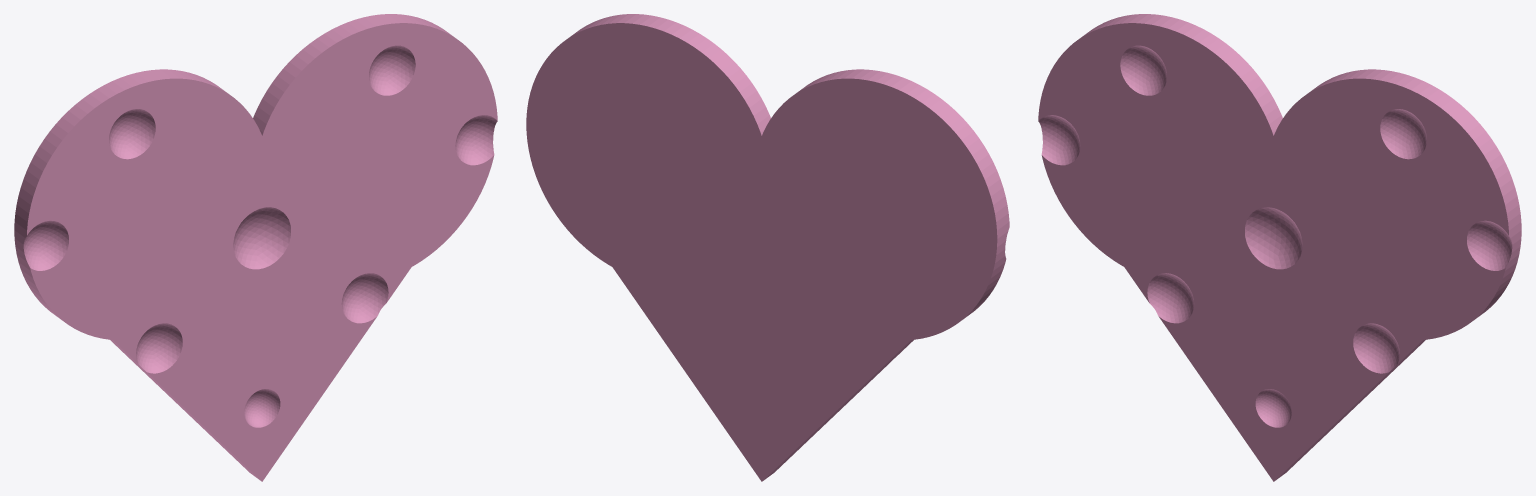
The model's file is ep4-heart-popit.glb.
The picture shows the model from 3 angles, left to right: view 1: azimuth 30°, elevation 25°; view 2: azimuth 150°, elevation 25°; view 3: azimuth 330°, elevation 25°; orthographic projection.
Visible parts, largest first — view 1: world; view 2: world; view 3: world.
Boxes of the visible parts, x1,y1,x2,y2 form: world: [14, 14, 497, 481]; world: [526, 14, 1009, 481]; world: [1038, 14, 1521, 481].
Bounding box in the file's own units: 87 × 75.5 × 4.
